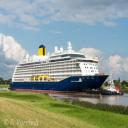cruises: (9, 41, 112, 96)
